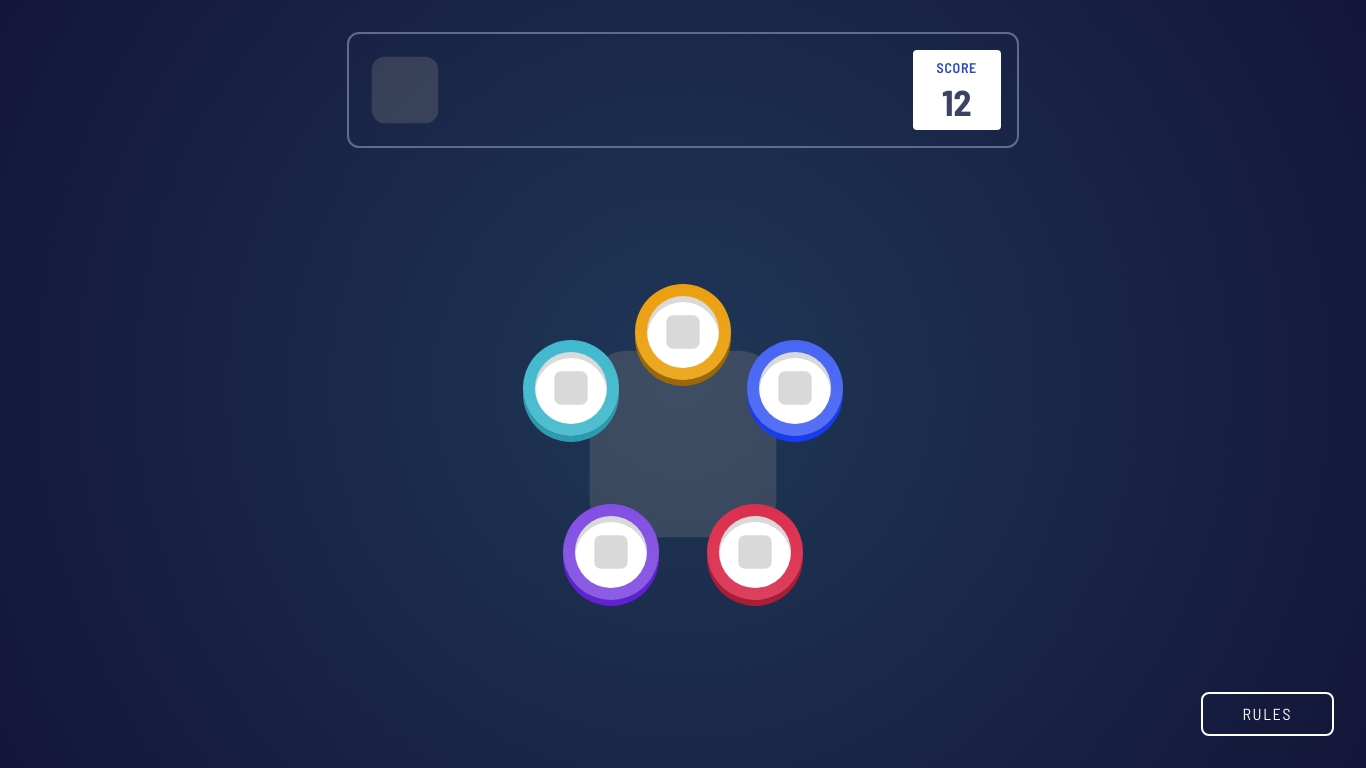
Test: Game Winning Logic › Scissors beats Paper
The width and height of the screenshot is (1366, 768).
What coordinates should you click on to do the following:
click the button named "Select scissors"
I would click on:
 (683, 332)
Its box is [635,284,731,380].
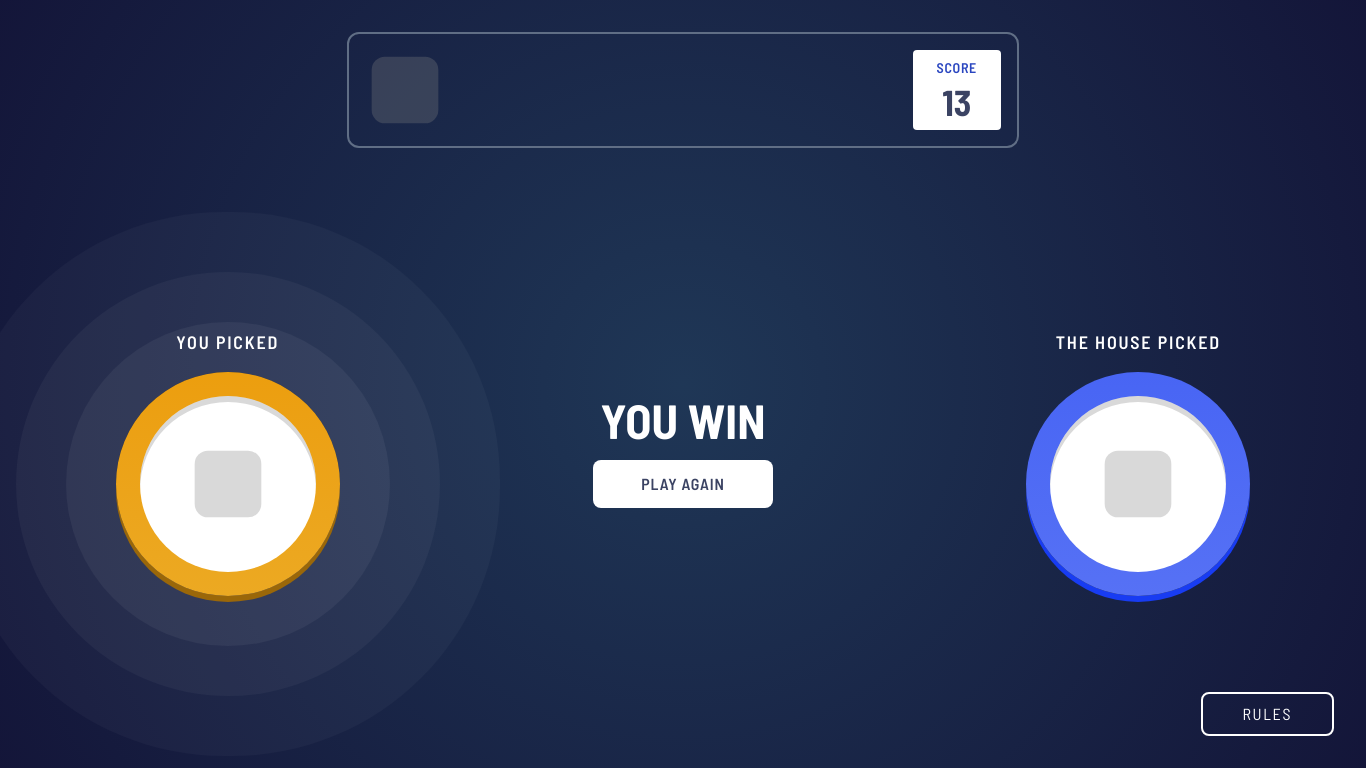
Result: the text "You Picked" is shown at [176,328,279,356]
Result: the text "The House Picked" is shown at [1056,328,1221,356]
